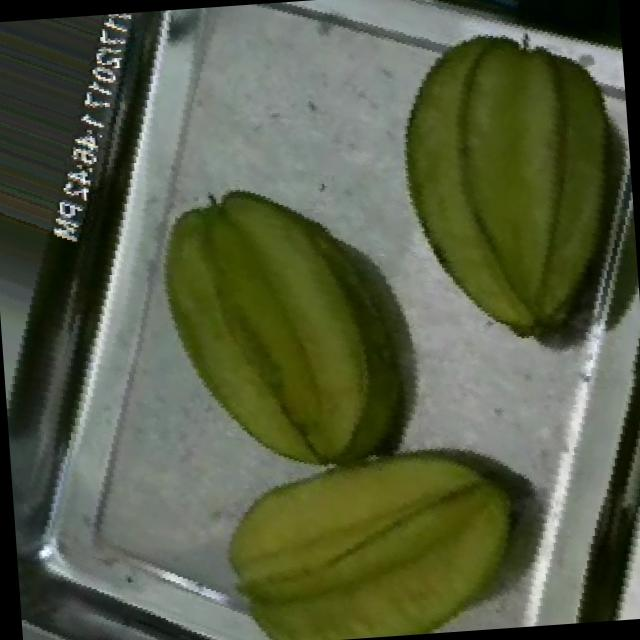fruit: (100, 143, 445, 530), (343, 0, 640, 386), (174, 387, 557, 640)
